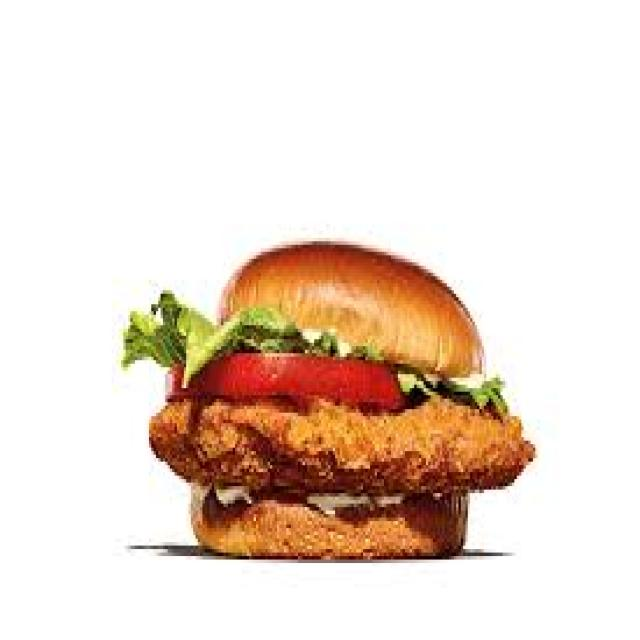햄버거: (121, 245, 535, 563)
